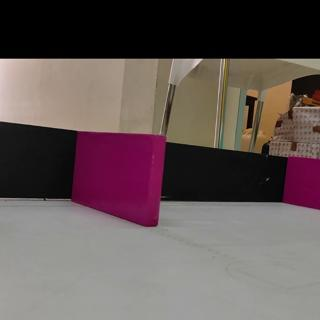xparking: (76, 134, 160, 219), (287, 159, 320, 204)
